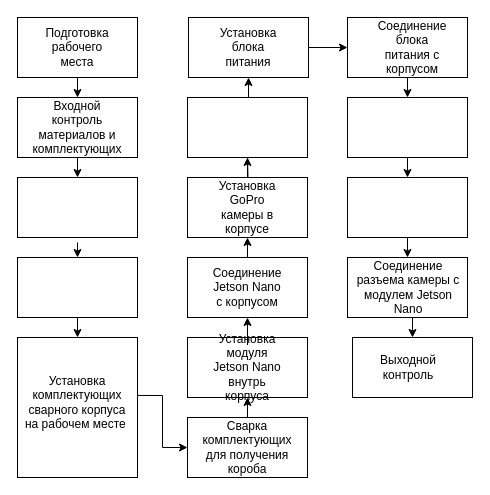
Image size: 490x495. Some labels were removed from this diagram. The centre of each missing label's shape, as x and y in pixels:
"Отстыковывание частей без соединений" goes at point (77, 287).
"Соединение камеры и блока питания" goes at point (407, 207).
"Соединение камеры с корпусом" goes at point (247, 127).
"Соединение модуля Jetson Nano и блока питания" goes at point (407, 127).
"Установка тубуса на рабочем месте" goes at point (77, 207).
